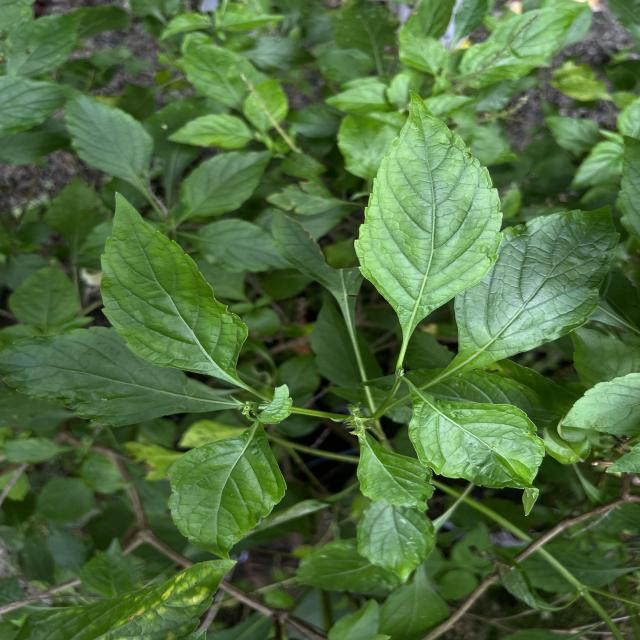Ocimum gratissimum: (350, 86, 508, 361), (442, 202, 624, 382), (97, 189, 251, 391), (0, 325, 253, 431), (404, 380, 550, 520), (160, 420, 291, 568), (352, 425, 438, 516)
